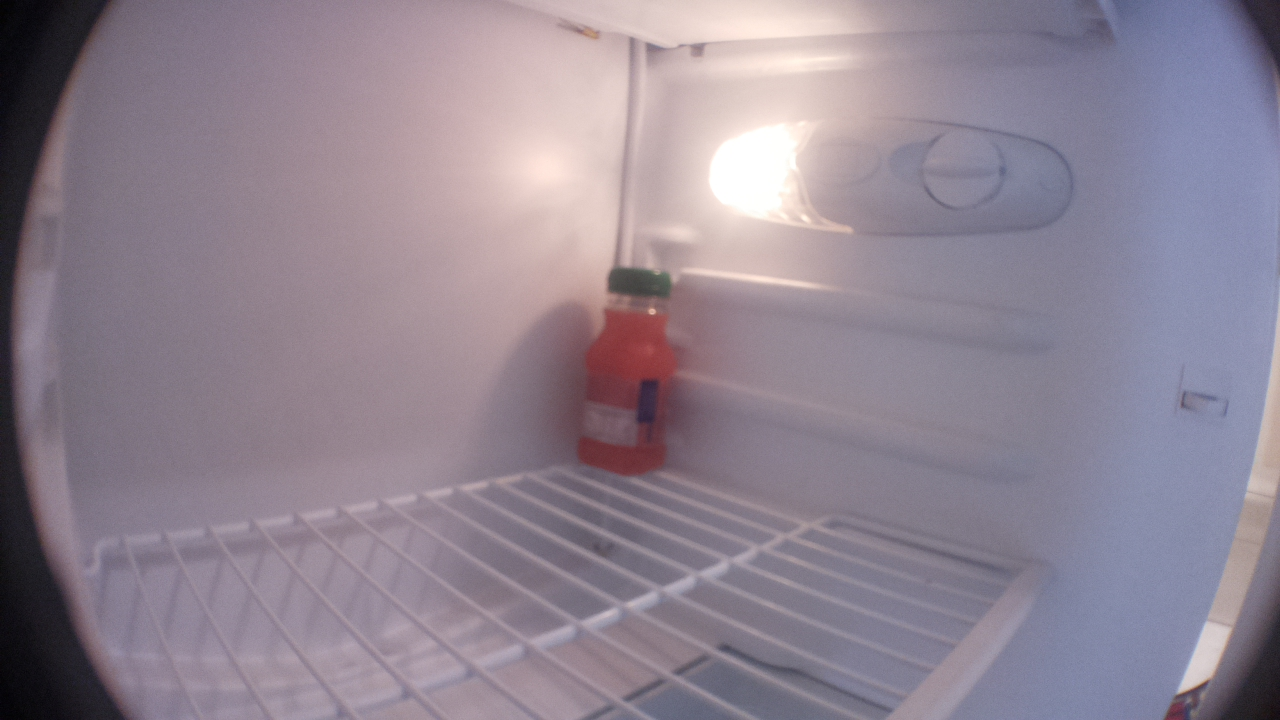juice: (572, 264, 689, 479)
